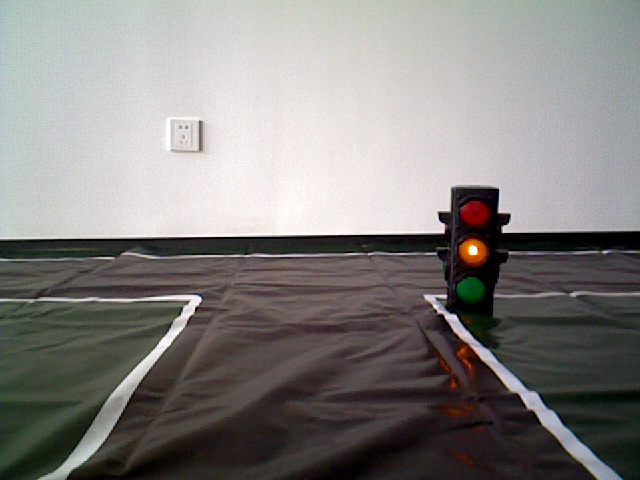yellow: (446, 190, 499, 305)
